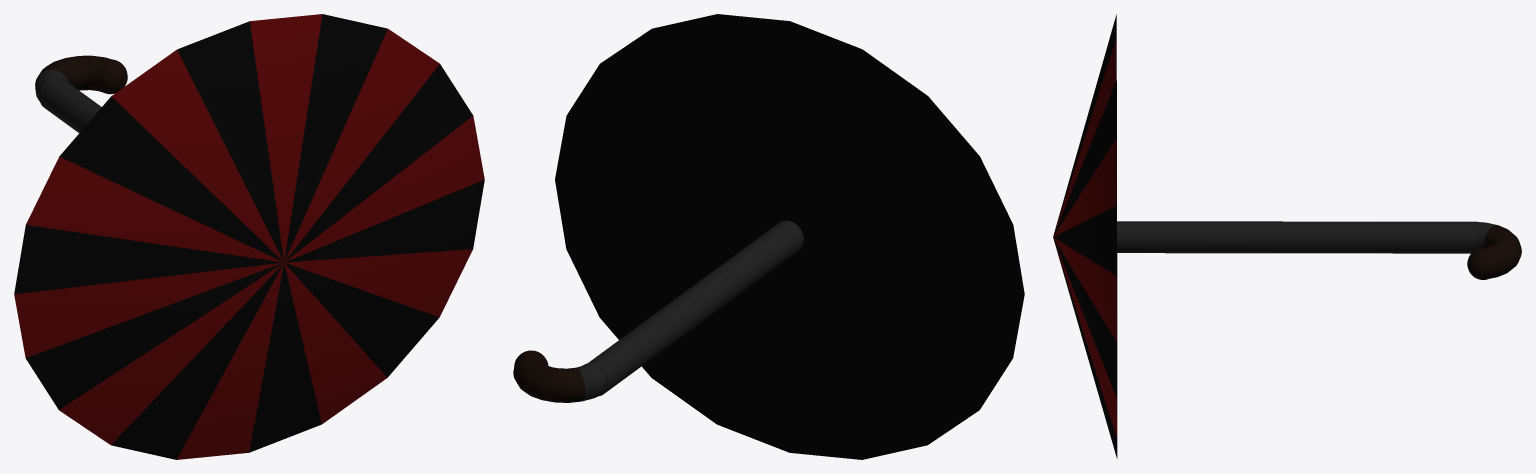
Rendered from umbrella-3.fbx.
The picture shows the model from 3 angles, left to right: view 1: azimuth 30°, elevation 25°; view 2: azimuth 150°, elevation 25°; view 3: azimuth 270°, elevation 25°; orthographic projection. The views are drawn at different scales.
Parts seen in each view (by area): view 1: pCone2; view 2: pCone2; view 3: pCone2.
Boxes of the visible parts, x1,y1,x2,y2 form: pCone2: (14,14,484,459); pCone2: (513,14,1024,459); pCone2: (1053,14,1521,458).
Size of the model in its own units: 15.65 by 13.73 by 14.67.
